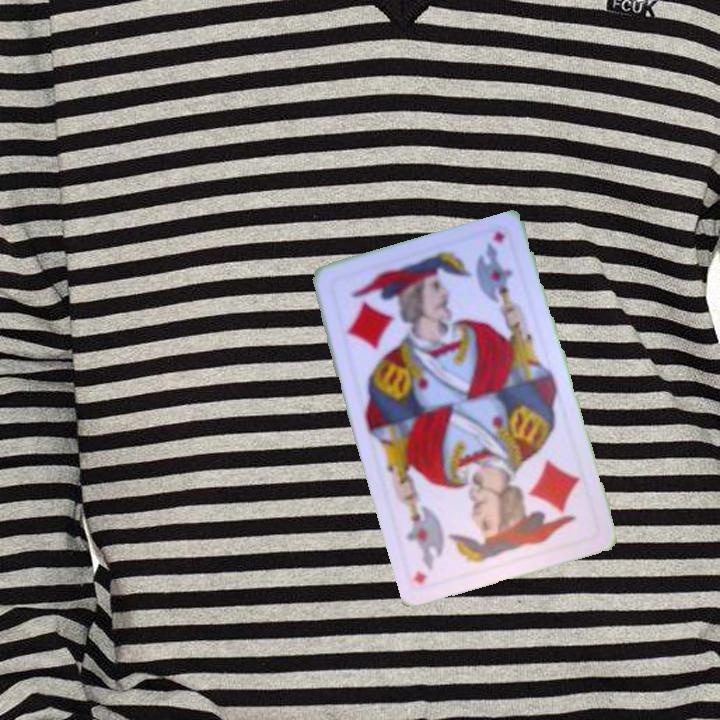d_j.png: (482, 454, 601, 563), (326, 254, 444, 363)
